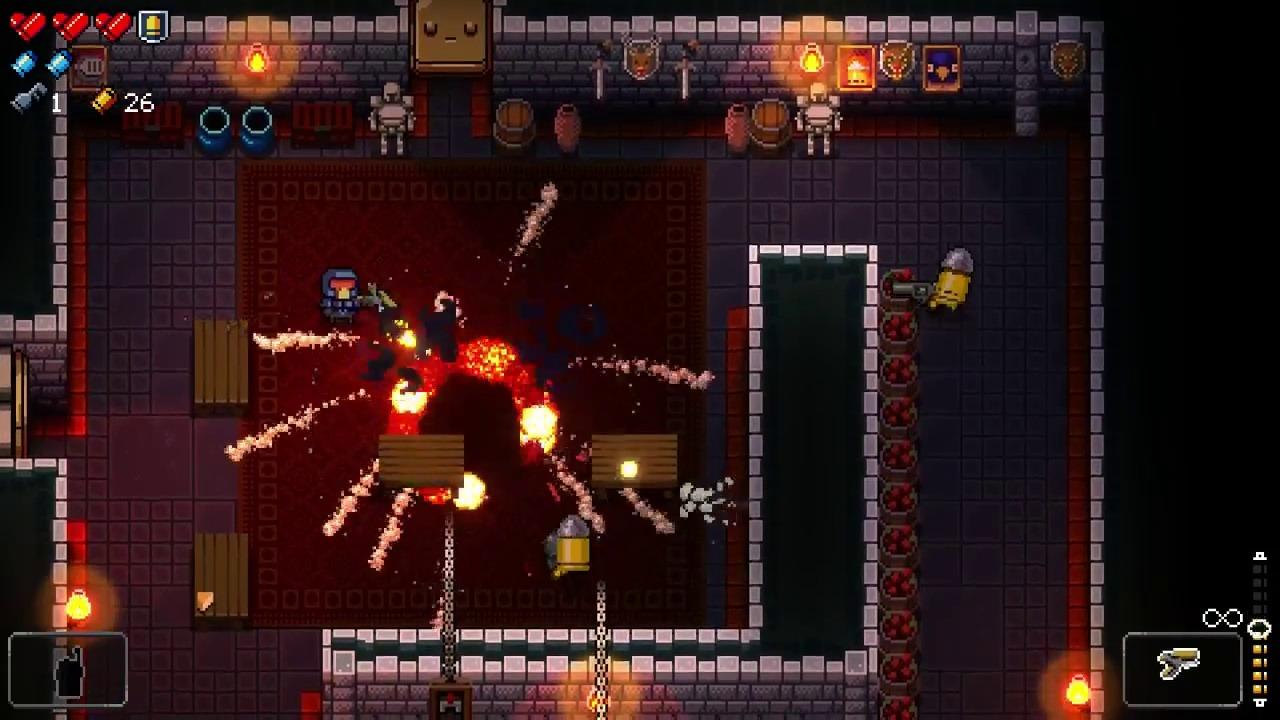bullet_kin: (929, 247, 975, 312), (556, 514, 591, 573)
locked_door: (410, 0, 494, 79), (0, 344, 28, 458)
player: (318, 266, 362, 326)
table: (378, 434, 464, 501), (591, 434, 679, 499), (193, 532, 249, 631), (195, 317, 249, 416)
